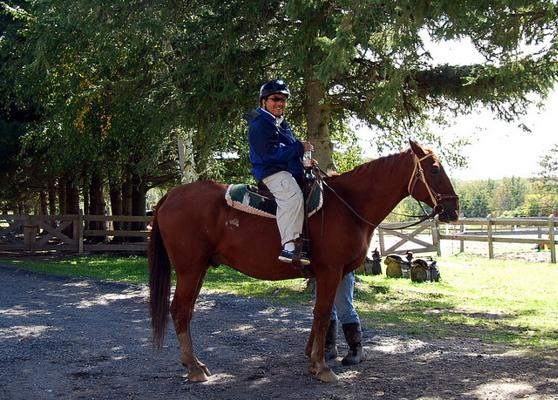person: (247, 82, 320, 268)
